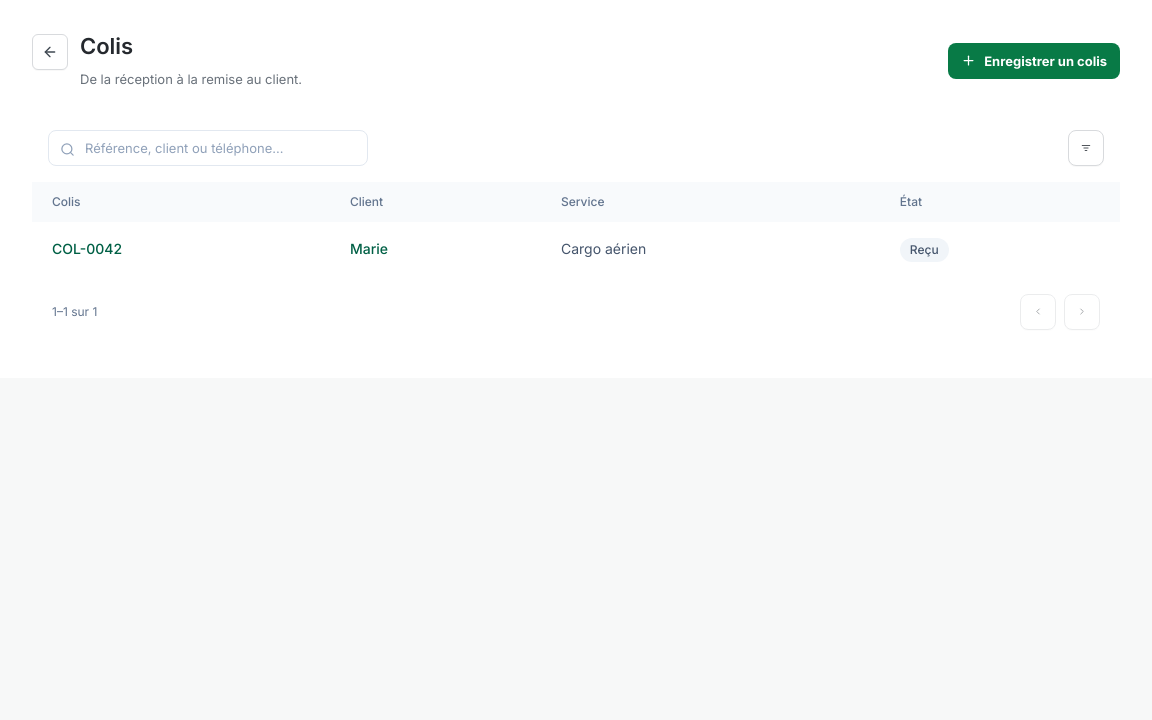
Test: Registre fret › présente le colis sur une seule fiche avec suivi, photos, paiement et historique repliable
Click the button "COL-0042" at (87, 249), box [52,239,122,259]
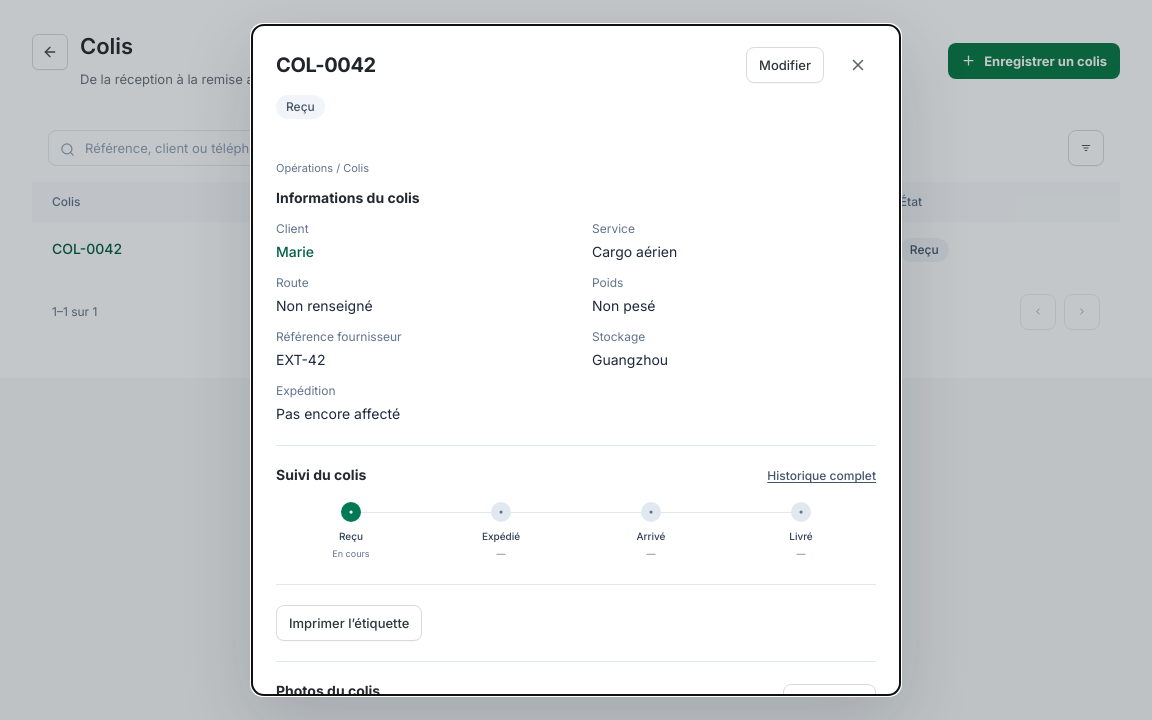
Check: the text "Non pesé" is shown, box [592,298,655,315]
Check: the text "EXT-42" is shown, box [276,352,325,369]
Check: the text "Pas encore affecté" is shown, box [276,406,400,423]
Click the button "Historique complet" at (822, 476), box [767,468,876,484]
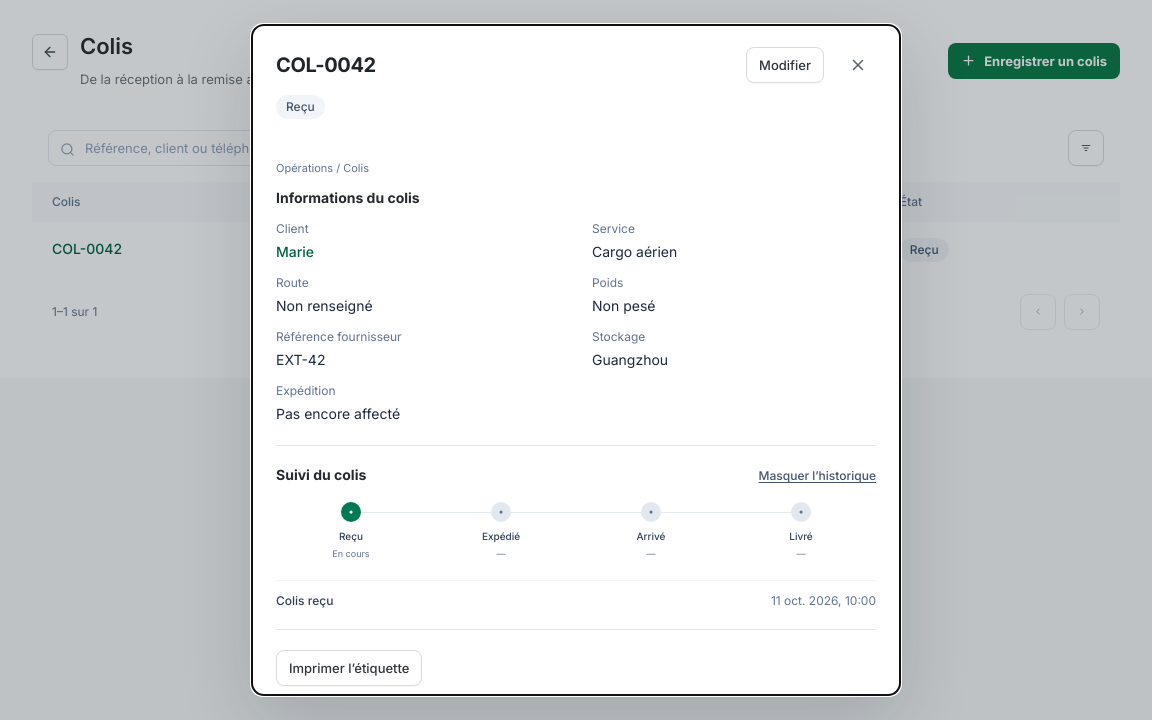
Check: the text "Colis reçu" is shown, box [276,593,333,609]
